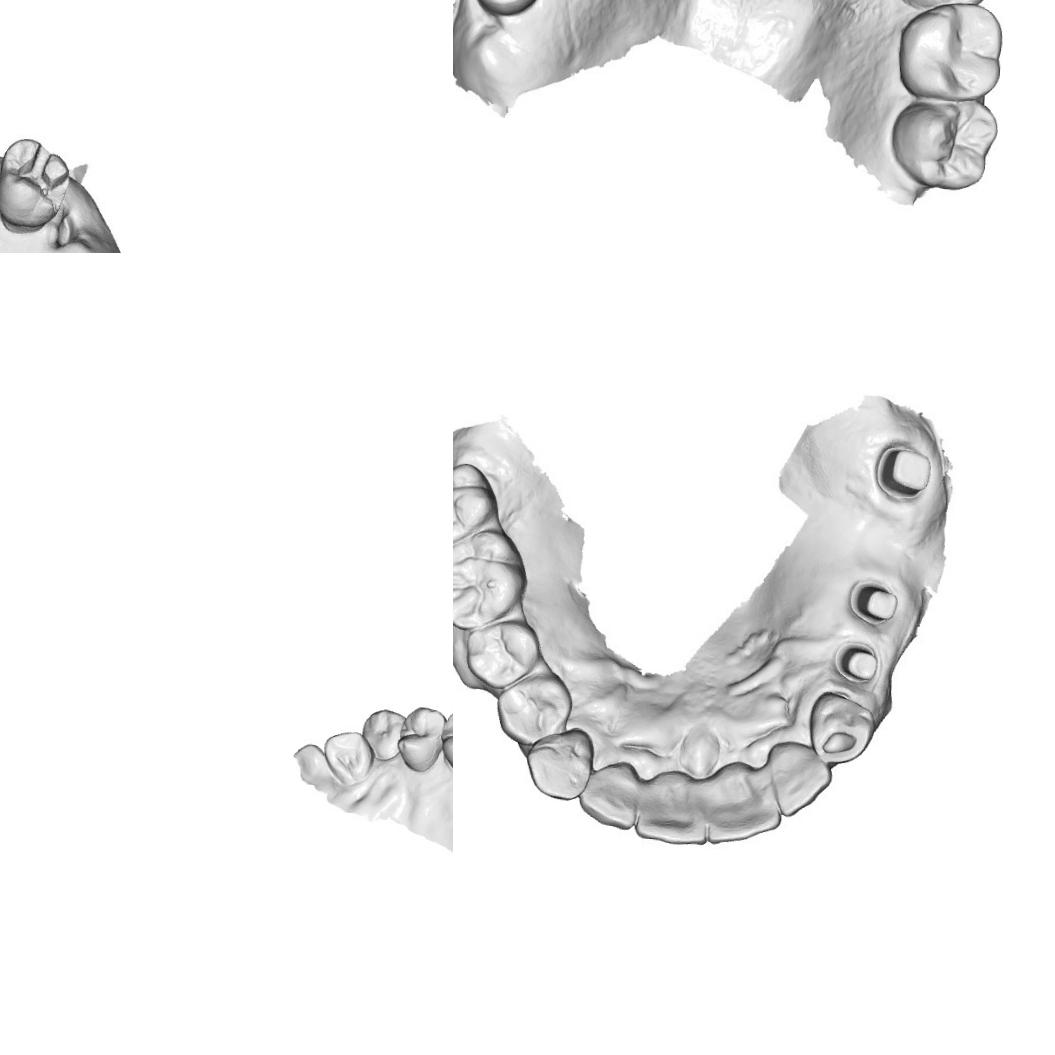abutment: (868, 436, 938, 509), (842, 566, 908, 641), (831, 636, 883, 688)
canine: (523, 726, 595, 800), (807, 690, 879, 764), (359, 706, 407, 764)
incisor: (706, 756, 784, 845), (635, 766, 717, 847), (767, 740, 832, 814), (576, 756, 640, 828), (320, 728, 375, 786)
inlay: (0, 138, 72, 216)
molar: (890, 90, 1000, 198), (897, 0, 1002, 105), (453, 522, 529, 631), (453, 460, 492, 547)
premolar: (494, 662, 568, 742), (462, 615, 538, 688), (394, 704, 448, 774), (899, 0, 989, 19), (437, 704, 453, 780)
